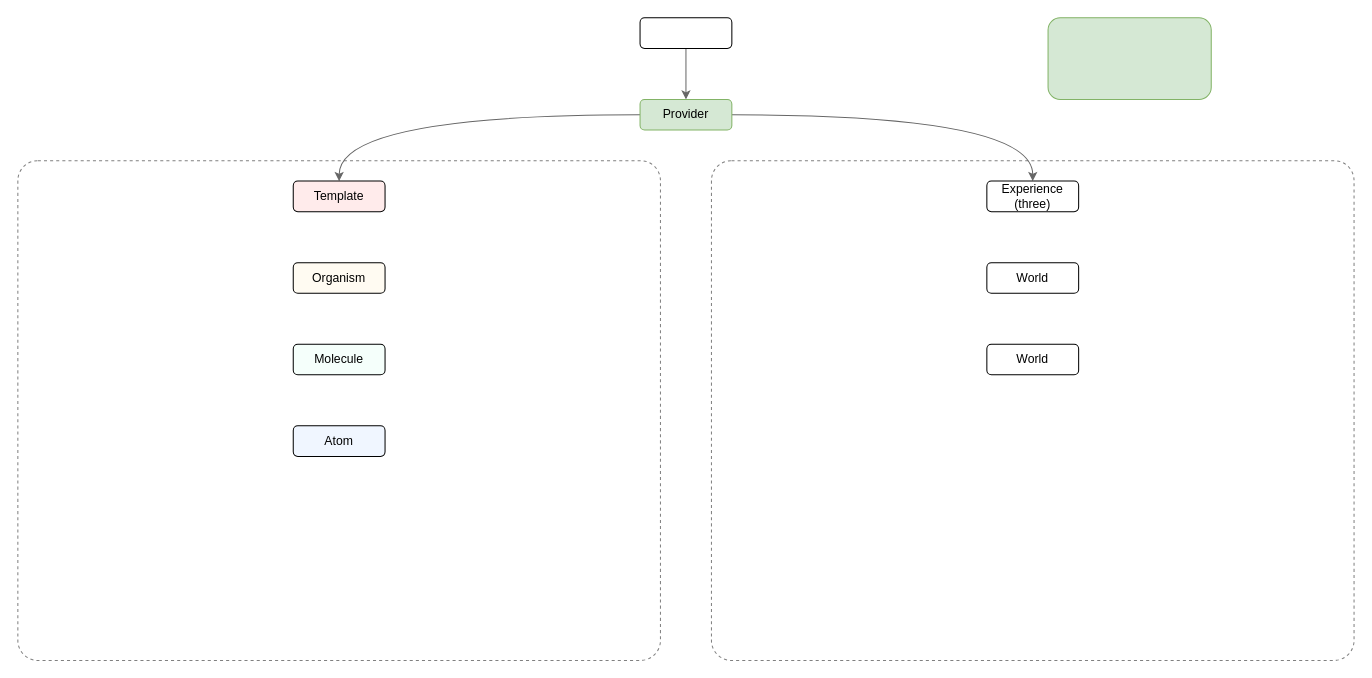
The diagram is 1372 pixels wide and 678 high, and some of its shapes have lost their labels. The centre of each missing label's shape, as x and y in pixels:
"App (Page)" belongs at point 685,32.
"Store" belongs at point 1129,58.
